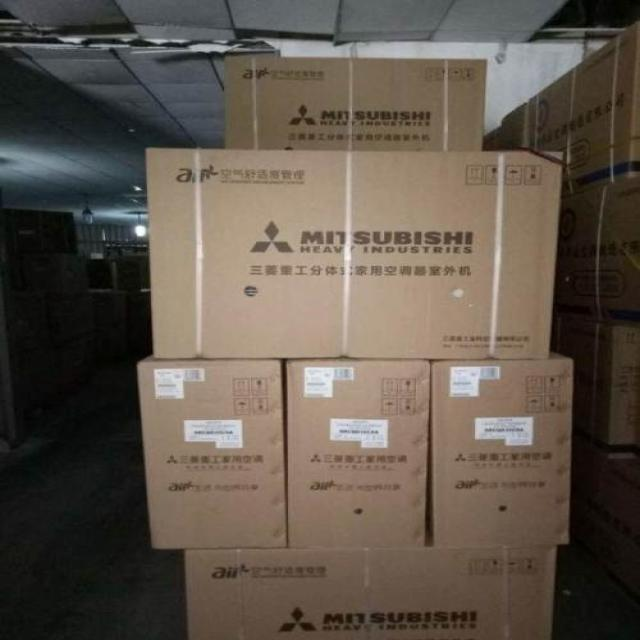box: (143, 147, 563, 359), (184, 546, 554, 640), (137, 355, 287, 549), (431, 351, 575, 546), (284, 359, 431, 548), (224, 58, 488, 151), (527, 22, 640, 198), (550, 316, 640, 457), (553, 178, 640, 321), (499, 104, 530, 151), (484, 129, 503, 151)
